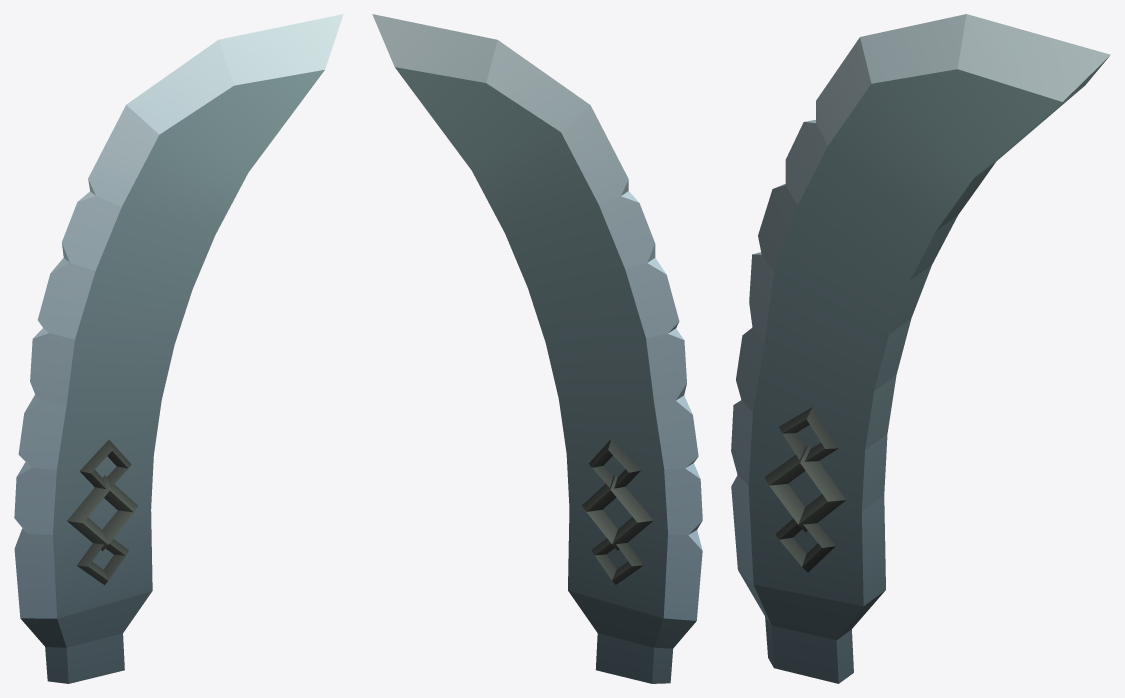
File: blade_006.fbx
The picture shows the model from 3 angles, left to right: view 1: azimuth 30°, elevation 25°; view 2: azimuth 150°, elevation 25°; view 3: azimuth 330°, elevation 25°; orthographic projection. The views are drawn at different scales.
Visible parts, largest first — view 1: blade.006; view 2: blade.006; view 3: blade.006.
Part boxes in pixels (x1,y1,x2,y2): blade.006: (14, 14, 343, 683); blade.006: (372, 14, 702, 683); blade.006: (731, 14, 1110, 683).
Size of the model in its own units: 63.31 by 110 by 10.66.
